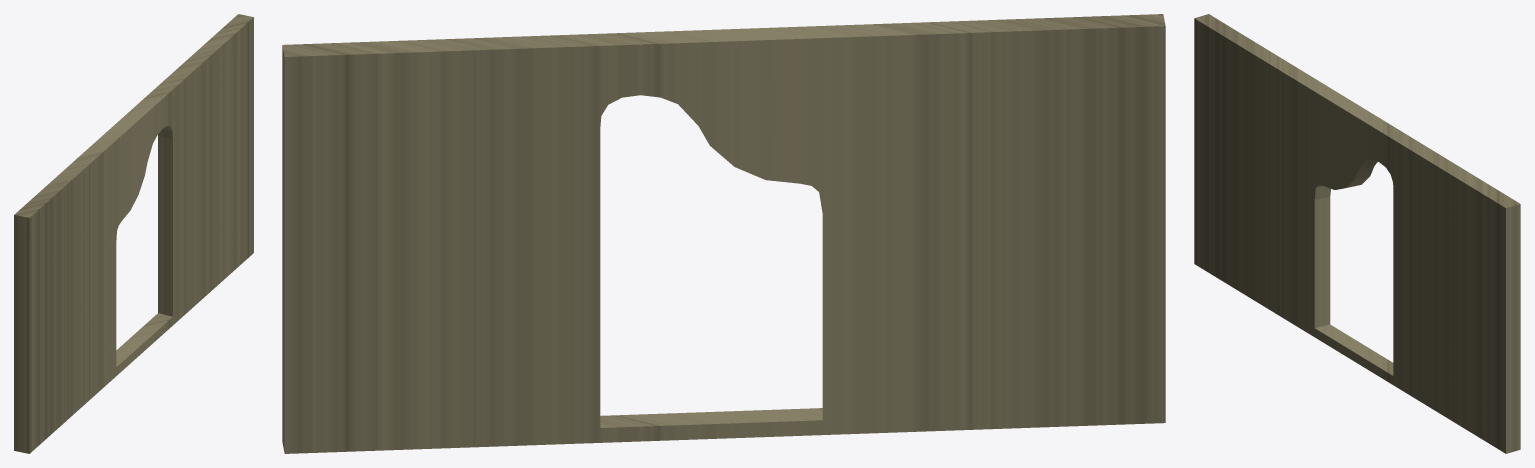
Rendered from puerta_cortada2.obj.
3 views of the same model, side by side, from view 1: azimuth 30°, elevation 25°; view 2: azimuth 150°, elevation 25°; view 3: azimuth 270°, elevation 25° (orthographic). The views are drawn at different scales.
Parts seen in each view (by area): view 1: pasted__pCube39 group124; view 2: pasted__pCube39 group124; view 3: pasted__pCube39 group124.
Boxes of the visible parts, x1,y1,x2,y2 form: pasted__pCube39 group124: (14,14,253,453); pasted__pCube39 group124: (282,14,1165,453); pasted__pCube39 group124: (1194,14,1520,453).
Size of the model in its own units: 25.8 by 15.21 by 18.32.
1 material, 1 textured.
